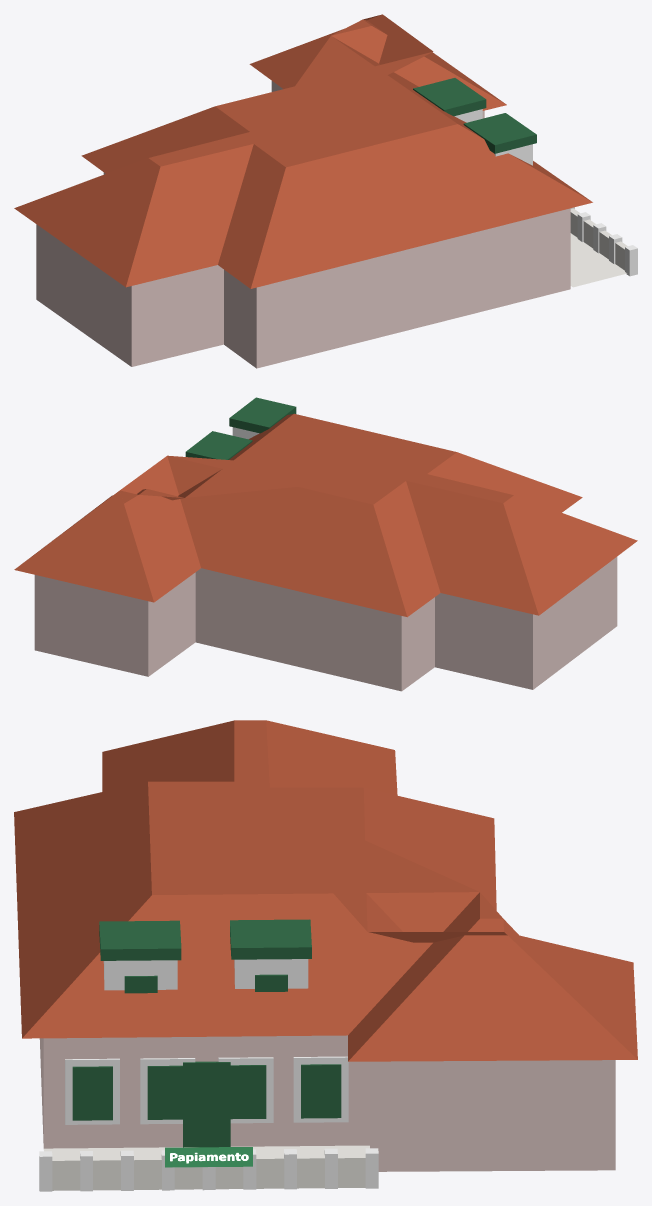
File: papiamento.glb
3 renders of one model, top to bottom at view 1: azimuth 30°, elevation 25°; view 2: azimuth 150°, elevation 25°; view 3: azimuth 270°, elevation 25°, orthographic. The views are drawn at different scales.
Parts seen in each view (by area): view 1: papiamento_lod0; view 2: papiamento_lod0; view 3: papiamento_lod0.
Boxes of the visible parts, <box> form: papiamento_lod0: <box>14,14,637,368</box>; papiamento_lod0: <box>14,397,637,691</box>; papiamento_lod0: <box>14,720,637,1191</box>.
Size of what is drawn, in the model's own units: 20.79 by 6.2 by 17.02.
Materials: 7 (2 with a texture image).
